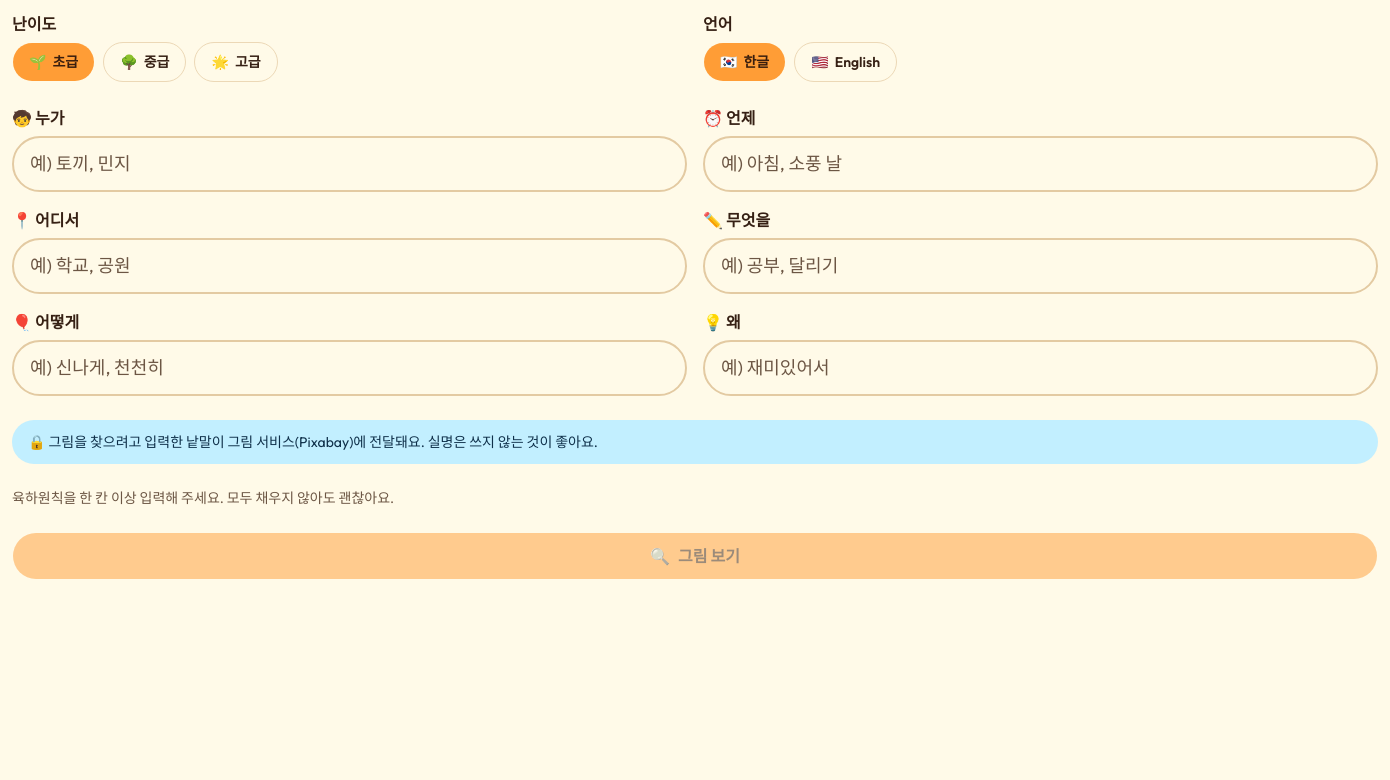
Test: 그림을 가져오지 못하면 오류 안내를 보여준다
Type "토끼" into the field labelled "누가". click: (350, 164)
box: [12,136,687,192]
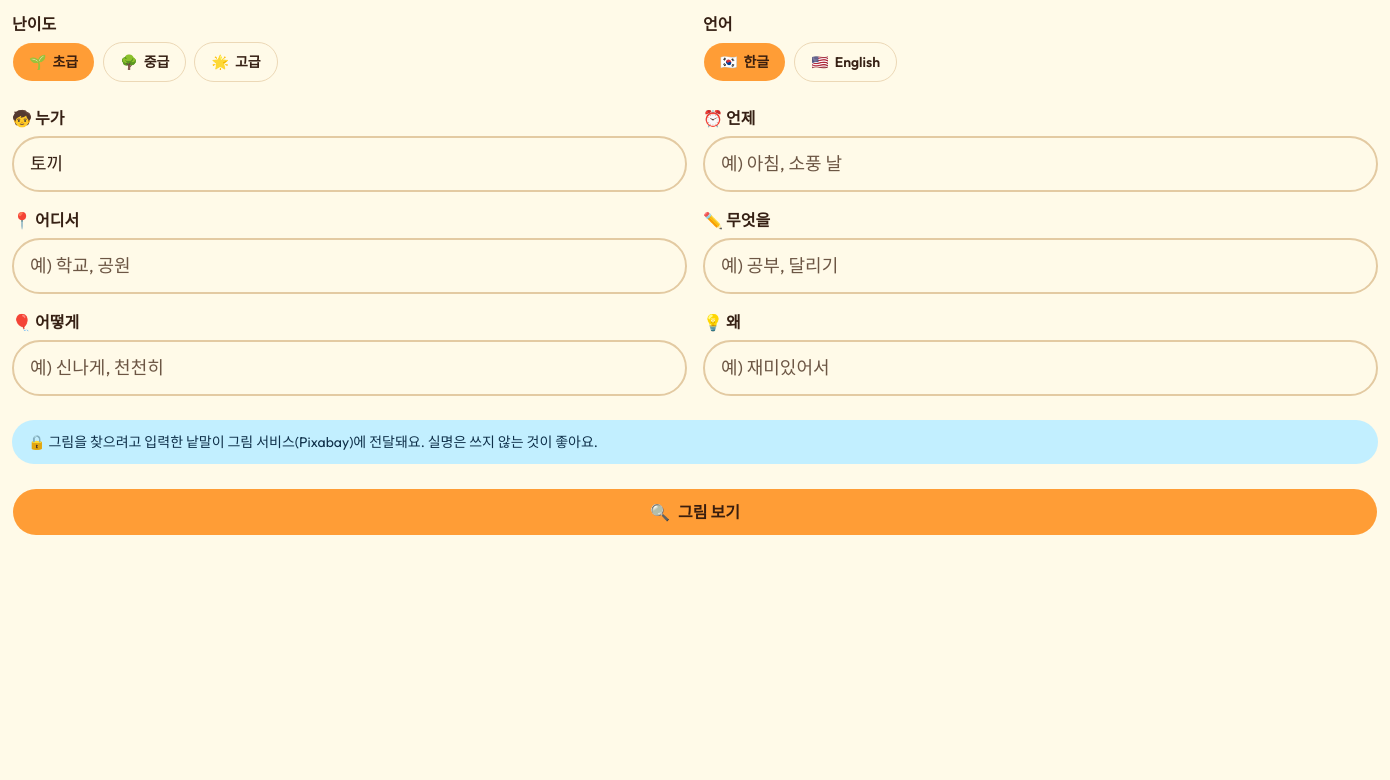
Click the button "🔍 그림 보기". click: click(695, 512)
box: [12,488,1378,536]
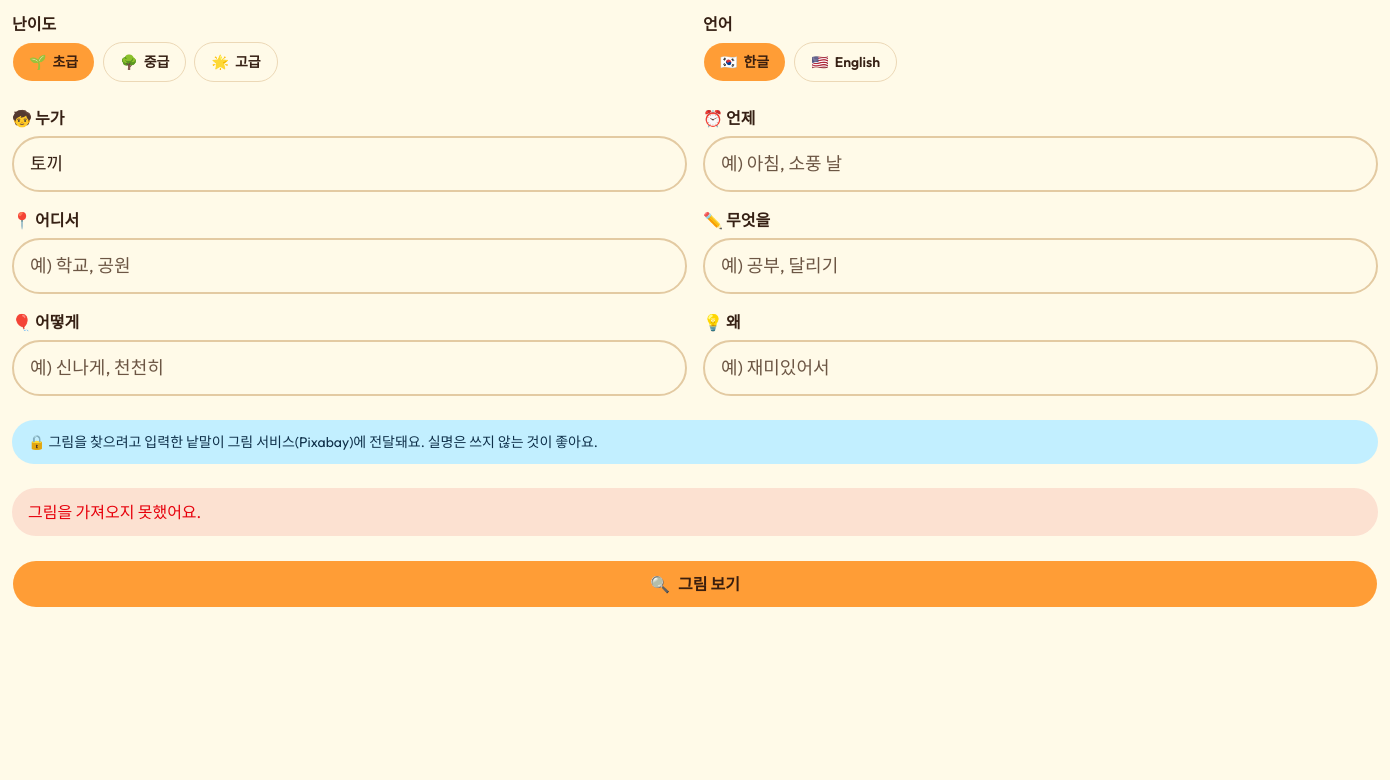
Now the message reads "그림을 가져오지 못했어요.", box [28,502,201,522]
